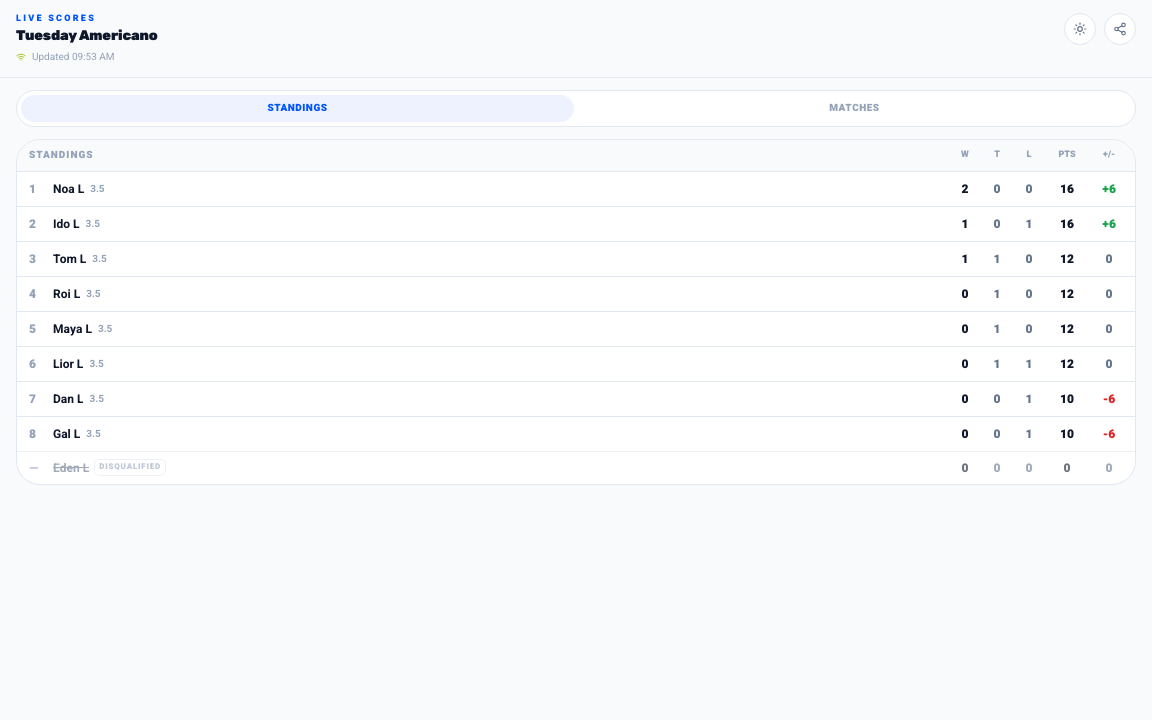
Test: the live page for an Americano › labels the tie in round 1
The image size is (1152, 720).
Click the button "Matches". click: (854, 108)
box: [578,94,1131,122]
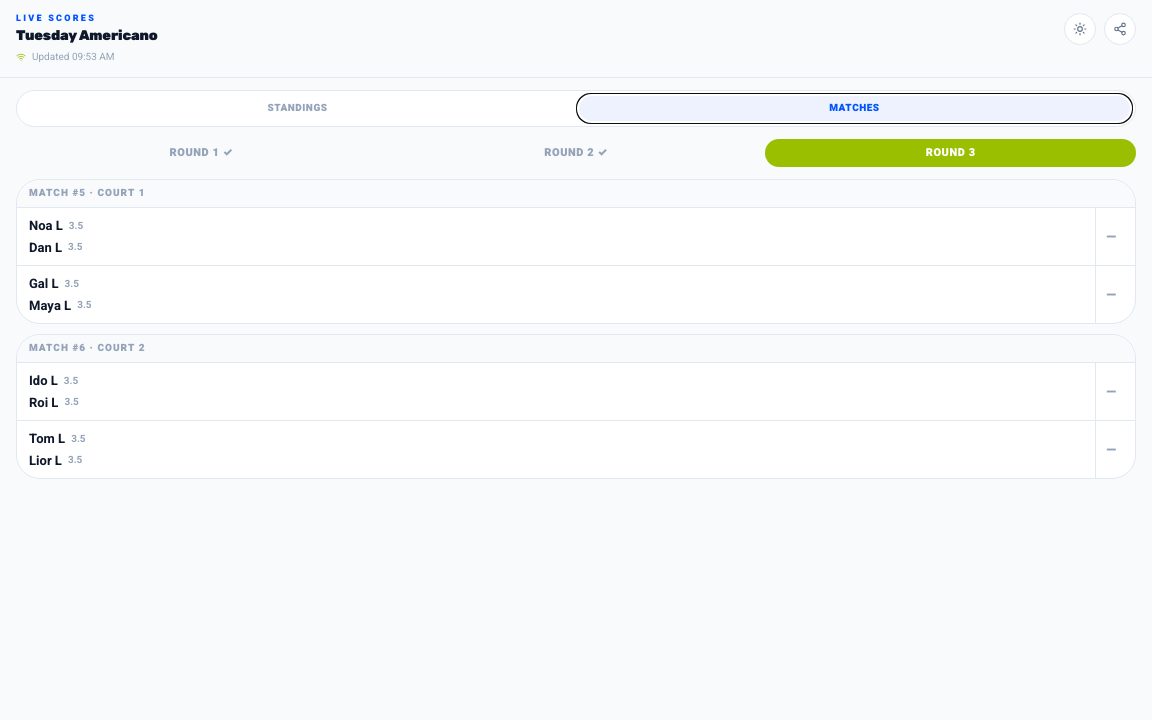
Click the button "Round 1 ✓". click: (201, 153)
box: [16,138,387,167]
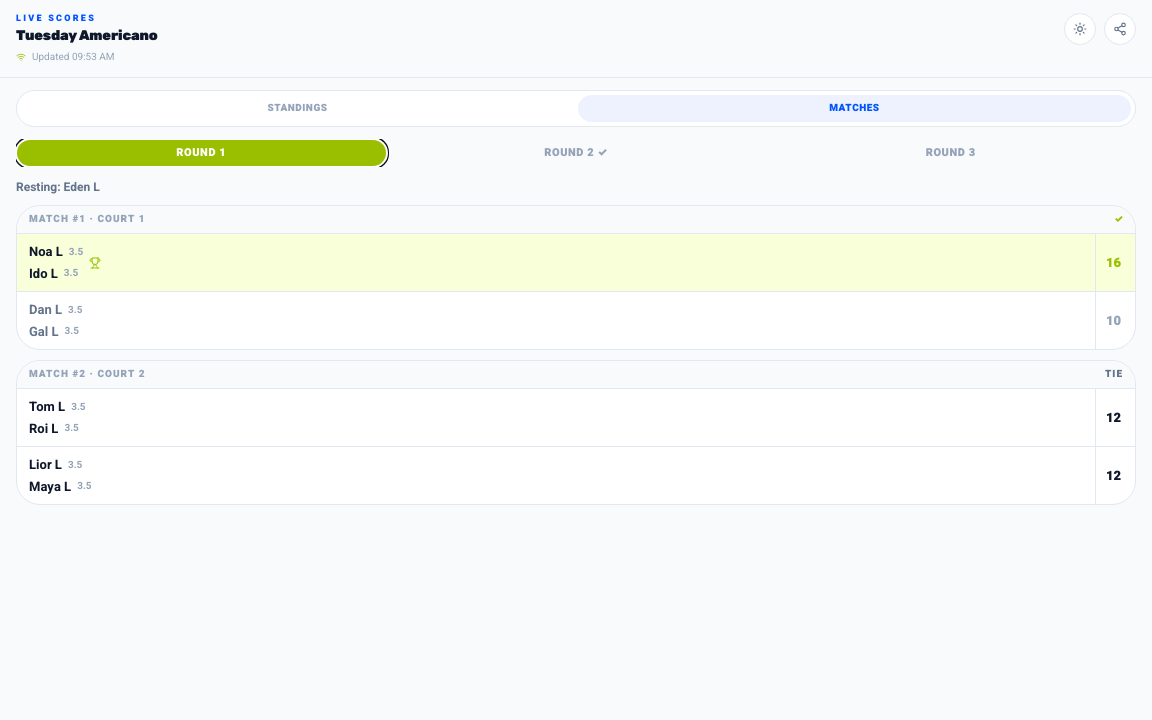
Now the text "Tie" is shown, box [1105,367,1123,382]
